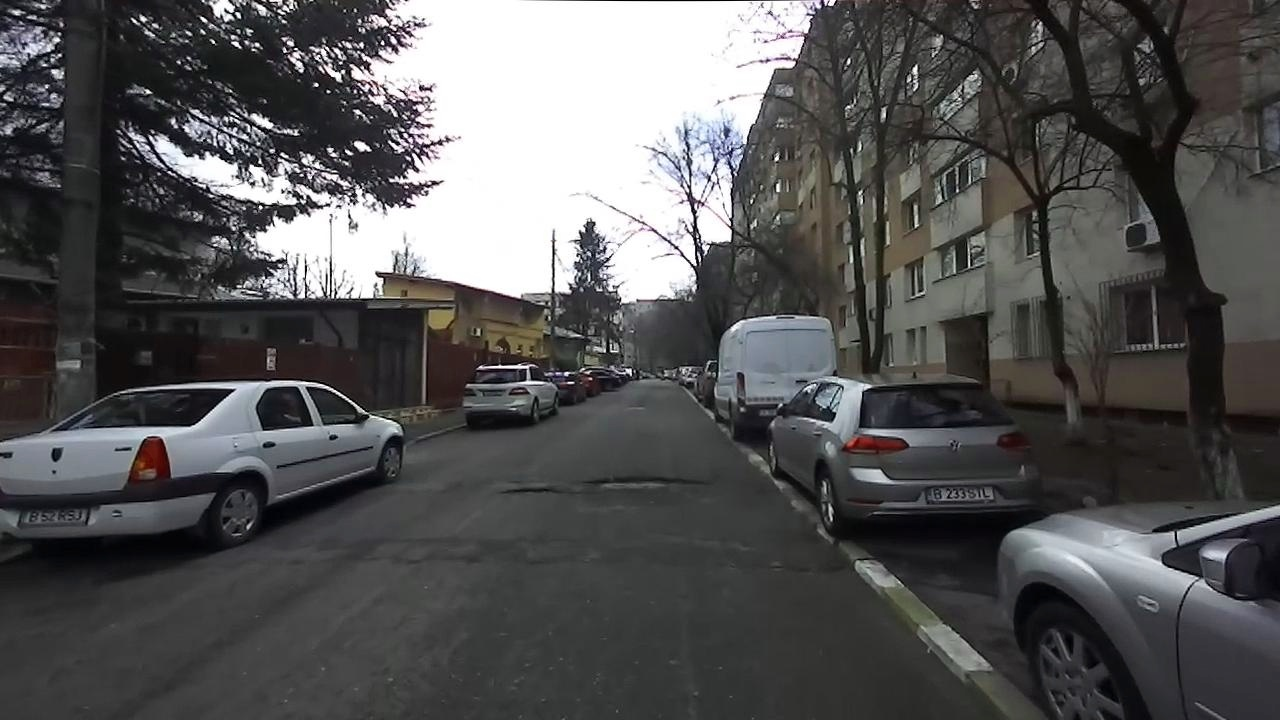pothole: (583, 472, 711, 493), (763, 555, 843, 577), (495, 482, 571, 495)
